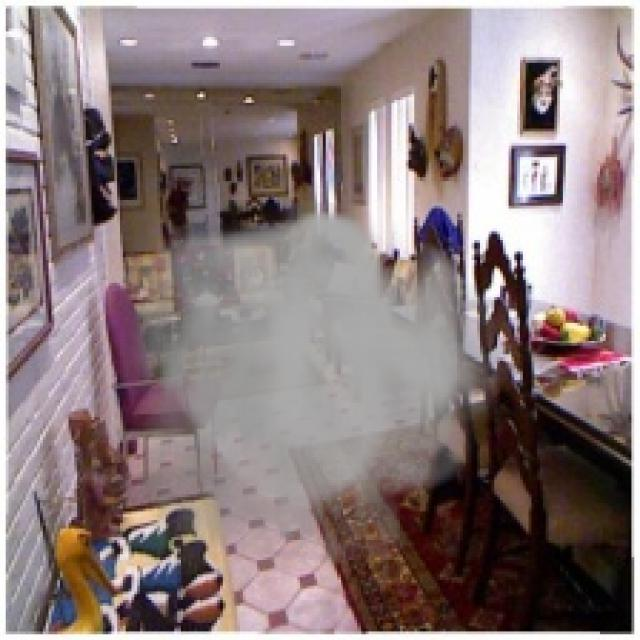smoke: (106, 203, 500, 617)
